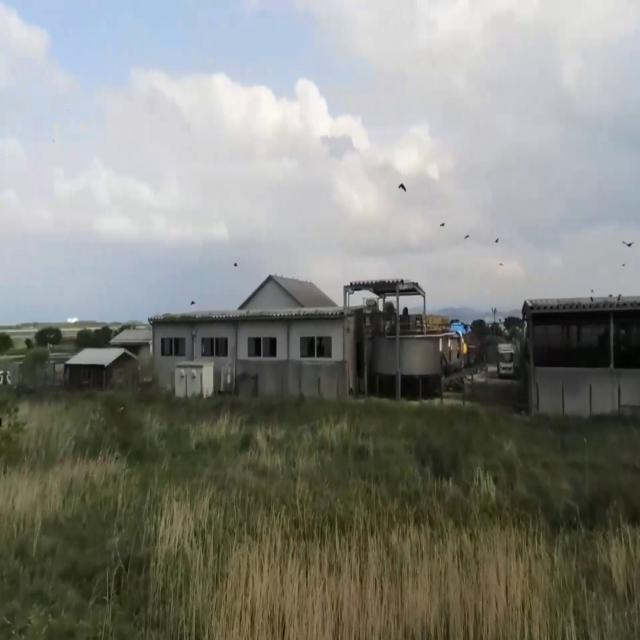bird: (621, 230, 636, 258), (397, 174, 407, 202)
